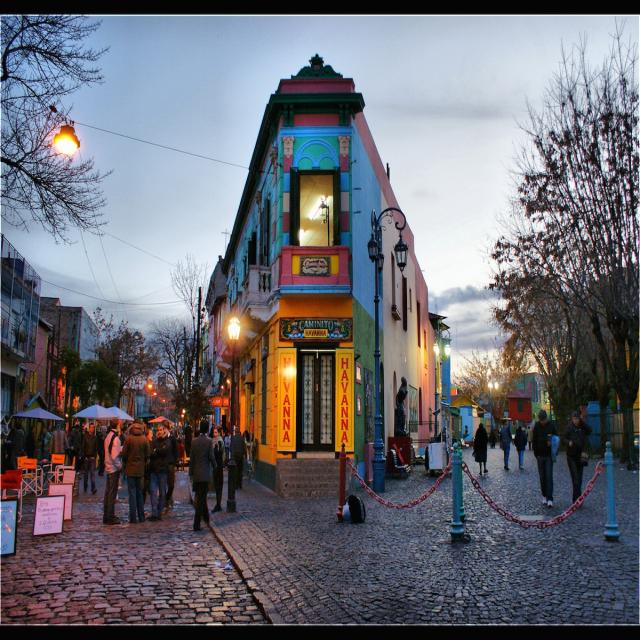body: (187, 419, 218, 532), (119, 417, 151, 525), (560, 410, 592, 506), (531, 408, 561, 508), (145, 423, 172, 522), (102, 418, 124, 526), (160, 419, 179, 516), (79, 422, 99, 496), (210, 426, 224, 514), (49, 420, 68, 482), (150, 399, 206, 420), (229, 426, 247, 489), (395, 374, 411, 434), (472, 422, 488, 476), (67, 422, 82, 475), (72, 416, 120, 432), (499, 418, 513, 470), (23, 425, 37, 477), (513, 424, 528, 470), (0, 414, 11, 476), (97, 424, 108, 478), (438, 426, 450, 466), (12, 422, 26, 456), (42, 426, 55, 462), (173, 420, 184, 460), (184, 420, 193, 459), (224, 430, 231, 470), (242, 429, 251, 459), (410, 388, 418, 416), (188, 419, 200, 437), (525, 424, 533, 450), (144, 427, 154, 447), (489, 427, 497, 448), (218, 419, 232, 431), (428, 406, 434, 432), (119, 428, 125, 452), (121, 425, 131, 439), (19, 419, 26, 434), (142, 420, 149, 429), (172, 421, 178, 426), (238, 430, 241, 436)
